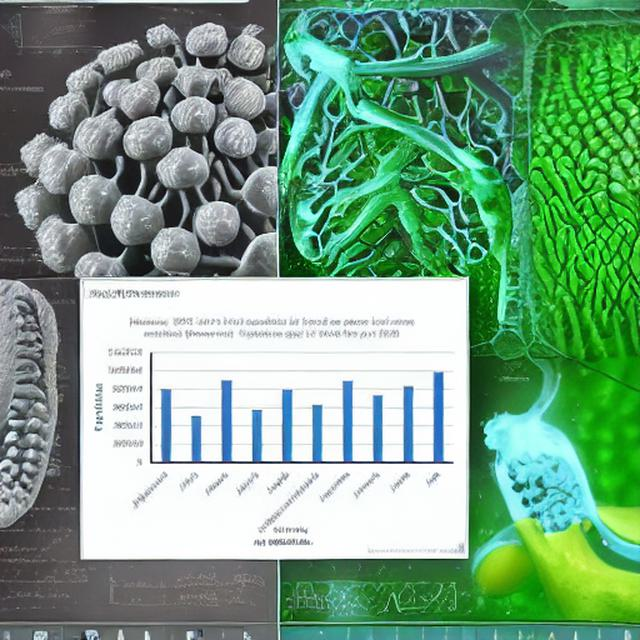Graph: (84, 311, 462, 537), (9, 3, 98, 57)
